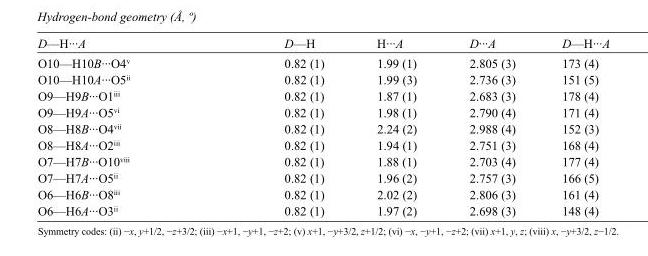table: (36, 36, 609, 217)
table column: (36, 36, 206, 217), (206, 36, 349, 217), (442, 36, 538, 217), (349, 36, 442, 217), (538, 36, 609, 217)
table row: (36, 53, 609, 71), (36, 36, 609, 53), (36, 87, 609, 104), (36, 136, 609, 153), (36, 169, 609, 186), (36, 71, 609, 87), (36, 104, 609, 120), (36, 120, 609, 136), (36, 153, 609, 169), (36, 186, 609, 202), (36, 202, 609, 217)
